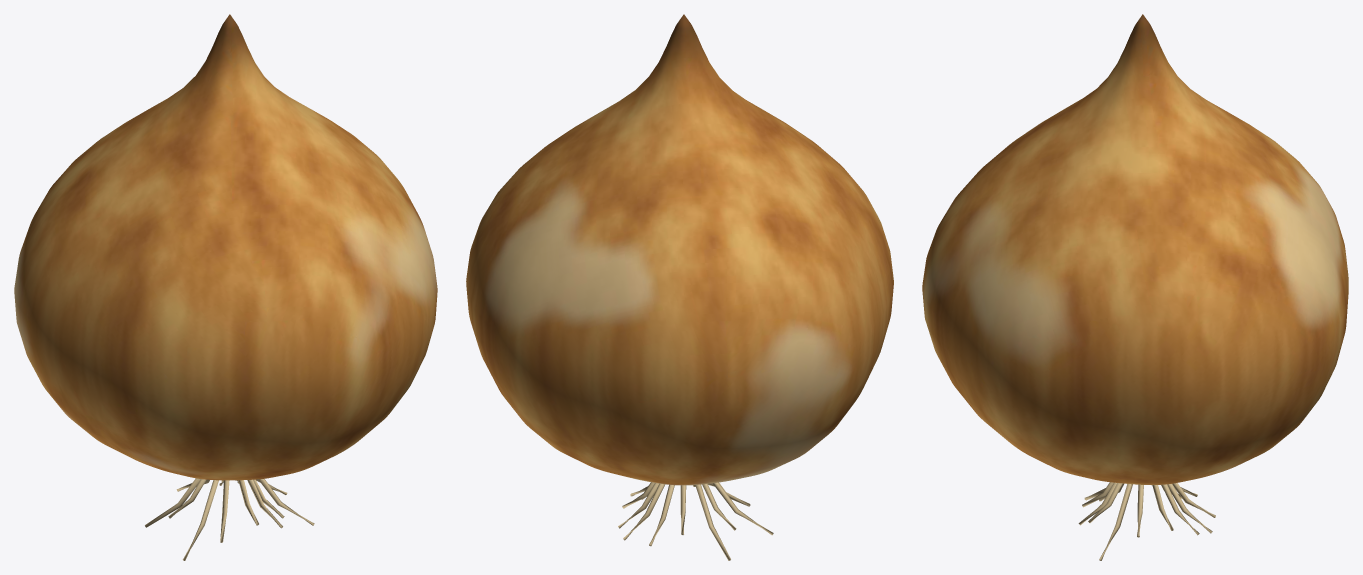
Rendered from oignon.glb.
3 renders of one model, left to right at view 1: azimuth 30°, elevation 25°; view 2: azimuth 150°, elevation 25°; view 3: azimuth 270°, elevation 25°, orthographic.
Visible parts, largest first — view 1: entier_peau, moitie_A_peau, moitie_B_peau, entier_extra0, moitie_A_extra0; view 2: entier_peau, moitie_B_peau, moitie_A_peau, moitie_B_extra0, entier_extra0; view 3: entier_peau, moitie_B_peau, moitie_A_peau, entier_extra0, moitie_B_extra0, moitie_A_extra0.
Part boxes in pixels (box(x1,y1,x2,y2)): entier_peau: box(14, 14, 437, 480); moitie_A_peau: box(52, 27, 436, 480); moitie_B_peau: box(14, 16, 367, 445); entier_extra0: box(146, 479, 314, 560); moitie_A_extra0: box(183, 478, 313, 560); entier_peau: box(466, 15, 893, 485); moitie_B_peau: box(467, 14, 870, 484); moitie_A_peau: box(698, 38, 893, 414); moitie_B_extra0: box(618, 482, 736, 560); entier_extra0: box(618, 483, 773, 560); entier_peau: box(922, 14, 1348, 484); moitie_B_peau: box(1135, 14, 1348, 484); moitie_A_peau: box(922, 27, 1135, 483); entier_extra0: box(1081, 482, 1215, 560); moitie_B_extra0: box(1137, 483, 1215, 537); moitie_A_extra0: box(1078, 482, 1132, 560).
Bounding box in the file's own units: 0.0807 × 0.1076 × 0.08.
3 materials, 2 textured.
